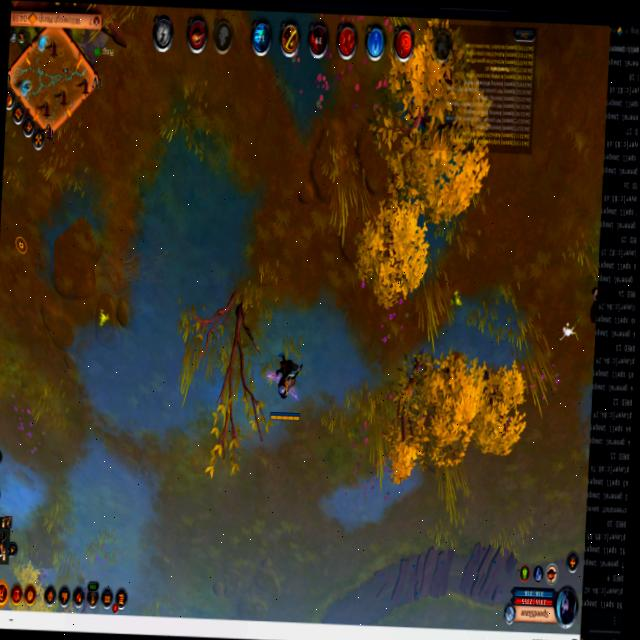red: (264, 330, 308, 425)
